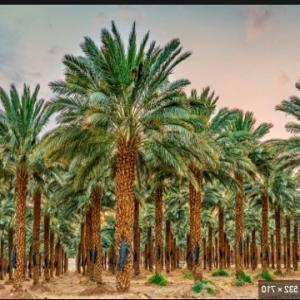palm tree: (42, 19, 203, 291), (0, 82, 60, 290)
